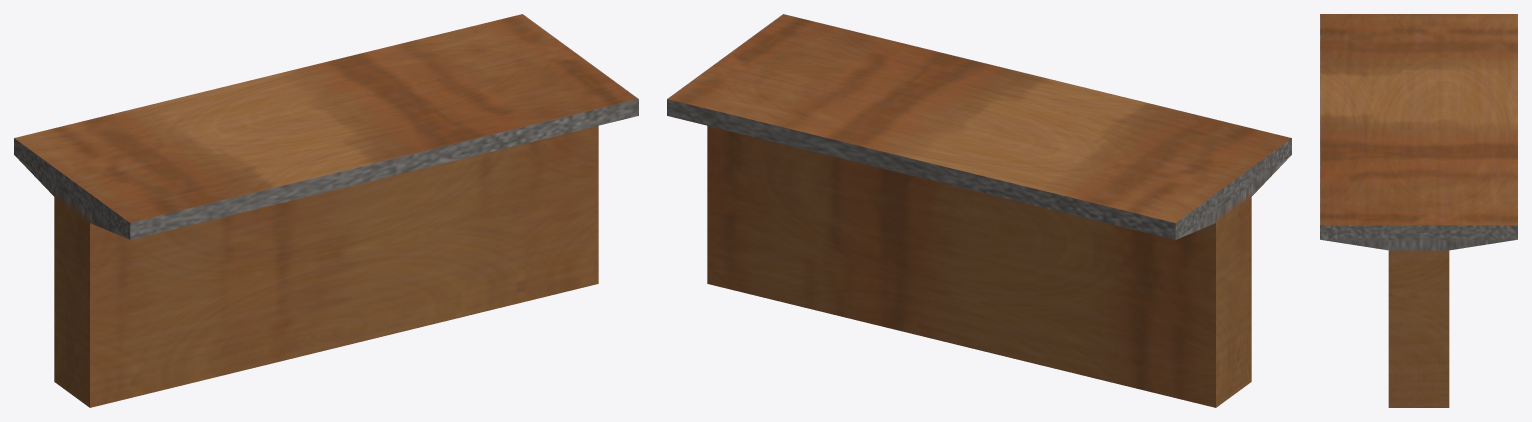
File: balcão variado.fbx
3 views of the same model, side by side, from view 1: azimuth 30°, elevation 25°; view 2: azimuth 150°, elevation 25°; view 3: azimuth 270°, elevation 25° (orthographic). The views are drawn at different scales.
Parts seen in each view (by area): view 1: Cube.001; view 2: Cube.001; view 3: Cube.001.
Part boxes in pixels (left/top/right/bottom): Cube.001: left=14, top=14, right=638, bottom=407; Cube.001: left=667, top=14, right=1291, bottom=407; Cube.001: left=1320, top=14, right=1517, bottom=407.
Bounding box in the file's own units: 310 × 125 × 123.
